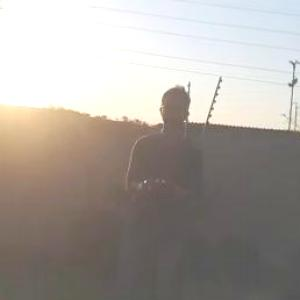follow: (122, 79, 209, 299)
